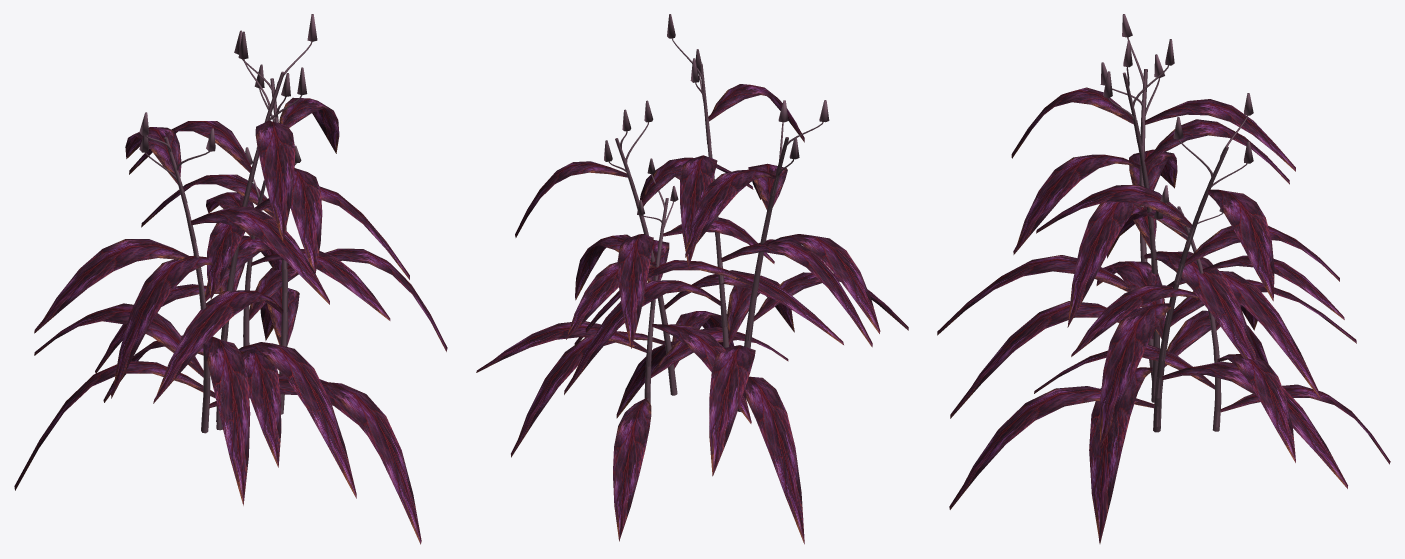
File: finegrass_08.glb
The picture shows the model from 3 angles, left to right: view 1: azimuth 30°, elevation 25°; view 2: azimuth 150°, elevation 25°; view 3: azimuth 270°, elevation 25°; orthographic projection. The views are drawn at different scales.
Visible parts, largest first — view 1: export; view 2: export; view 3: export.
Boxes of the visible parts, <box> form: export: <box>14,14,447,544</box>; export: <box>476,14,908,544</box>; export: <box>937,14,1390,543</box>.
Bounding box in the file's own units: 1.01 × 1.19 × 1.04.
Materials: 2 (2 with a texture image).
